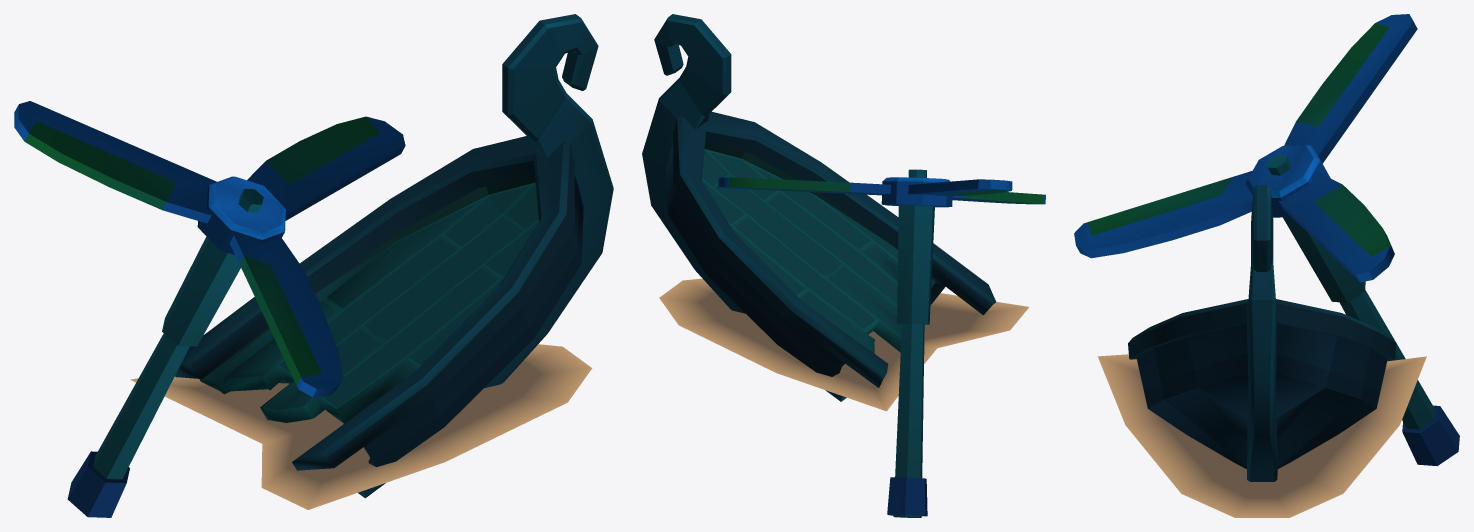
The model's file is Ship_Front.fbx.
The picture shows the model from 3 angles, left to right: view 1: azimuth 30°, elevation 25°; view 2: azimuth 150°, elevation 25°; view 3: azimuth 270°, elevation 25°; orthographic projection. The views are drawn at different scales.
Visible parts, largest first — view 1: Ship_Front; view 2: Ship_Front; view 3: Ship_Front.
Part boxes in pixels (<box>): Ship_Front: <box>14,14,613,517</box>; Ship_Front: <box>642,14,1045,517</box>; Ship_Front: <box>1074,14,1459,517</box>.
Bounding box in the file's own units: 5232 × 4518 × 3622.
